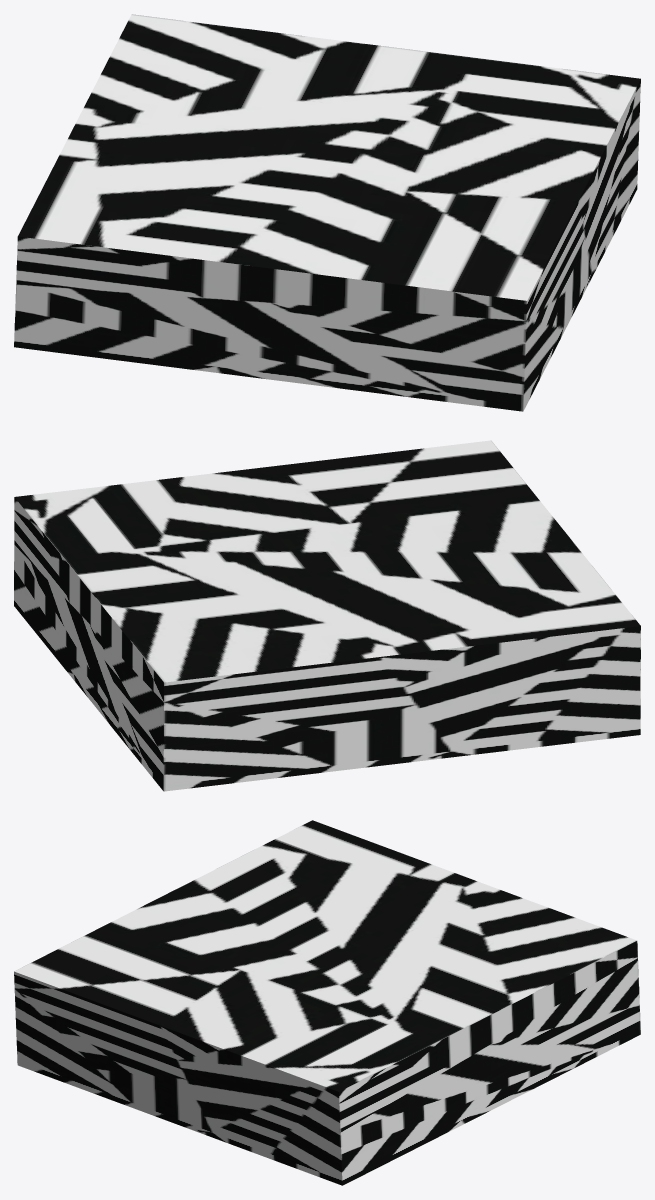
Rendered from vxcvx.glb.
3 views of the same model, one above another, from view 1: azimuth 30°, elevation 25°; view 2: azimuth 150°, elevation 25°; view 3: azimuth 270°, elevation 25° (orthographic). The views are drawn at different scales.
Parts seen in each view (by area): view 1: vxcvx; view 2: vxcvx; view 3: vxcvx.
Boxes of the visible parts, left/top/right/bottom form: vxcvx: left=14, top=14, right=640, bottom=411; vxcvx: left=14, top=440, right=640, bottom=791; vxcvx: left=14, top=820, right=640, bottom=1185.
Size of the model in its own units: 2.83 by 0.5716 by 2.84.
1 material, 1 textured.
